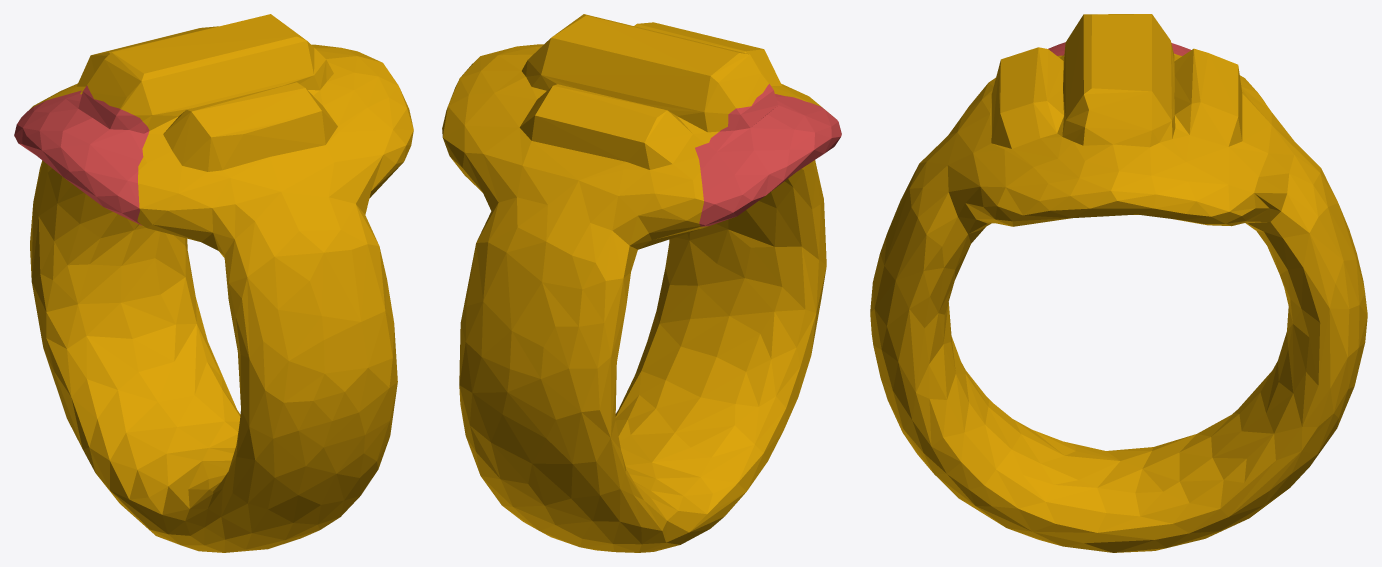
File: fractured_28_2pcs.glb
The picture shows the model from 3 angles, left to right: view 1: azimuth 30°, elevation 25°; view 2: azimuth 150°, elevation 25°; view 3: azimuth 270°, elevation 25°; orthographic projection.
Visible parts, largest first — view 1: piece_0.obj, piece_1.obj; view 2: piece_0.obj, piece_1.obj; view 3: piece_0.obj.
Part boxes in pixels (bbox=[...]): piece_0.obj: bbox=[29, 14, 413, 552]; piece_1.obj: bbox=[14, 85, 149, 225]; piece_0.obj: bbox=[442, 14, 828, 552]; piece_1.obj: bbox=[695, 84, 841, 226]; piece_0.obj: bbox=[870, 14, 1367, 552].
Size of the model in its own units: 0.7357 by 1 by 0.9353.
